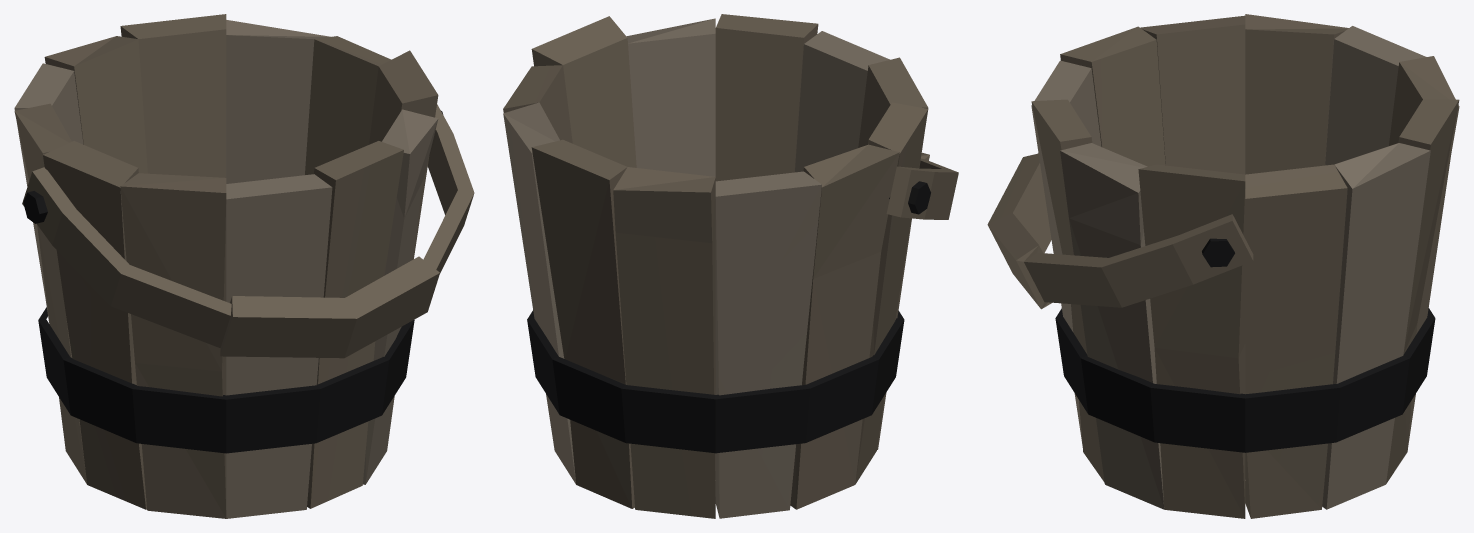
The model's file is bucket.glb.
3 renders of one model, left to right at view 1: azimuth 30°, elevation 25°; view 2: azimuth 150°, elevation 25°; view 3: azimuth 270°, elevation 25°, orthographic.
Parts seen in each view (by area): view 1: Bucket; view 2: Bucket; view 3: Bucket.
Part boxes in pixels (x1,y1,x2,y2): Bucket: [14, 14, 474, 518]; Bucket: [503, 14, 958, 518]; Bucket: [987, 14, 1459, 518].
Size of the model in its own units: 0.5707 by 0.4852 by 0.5773.
Materials: 1 (1 with a texture image).
